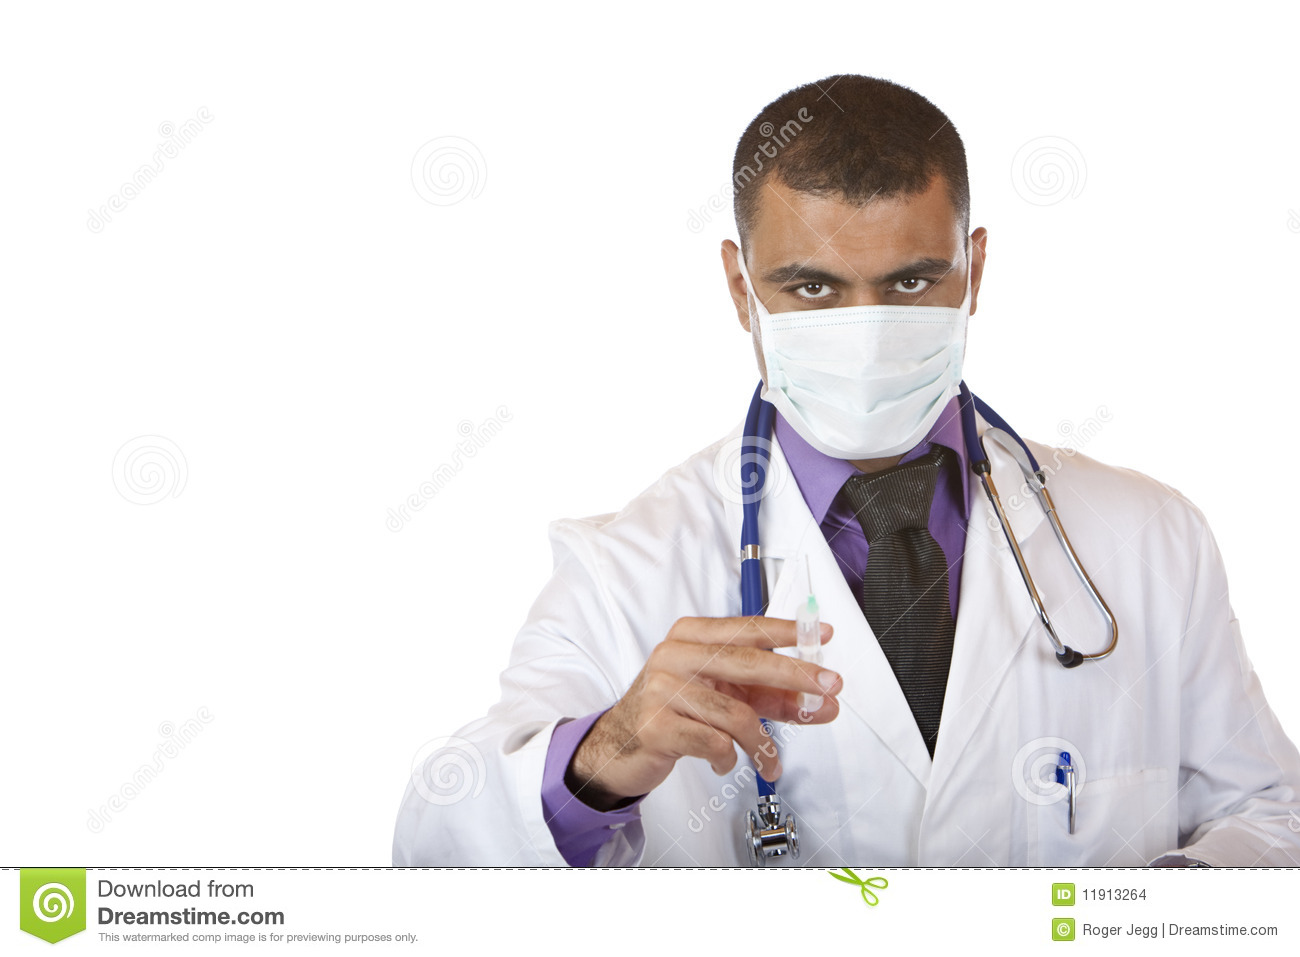mask: (758, 304, 966, 459)
